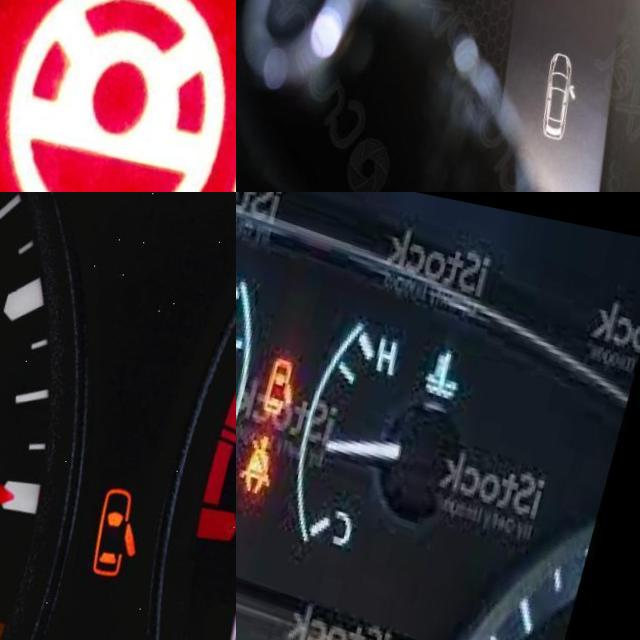Electronic Power Steering: (0, 0, 236, 192)
Seat Belt: (245, 419, 289, 486)
